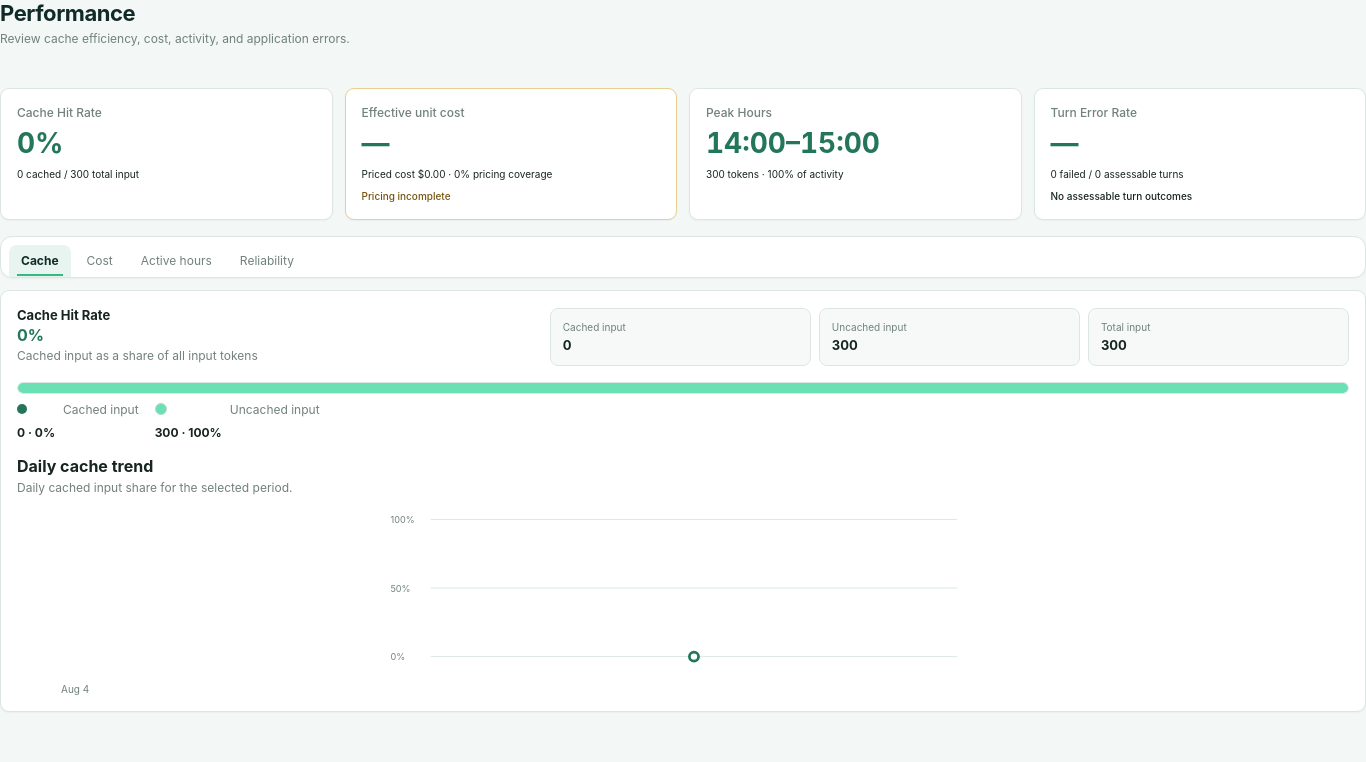
Test case: PerformanceView › switches the single detail panel by click and keyboard
Press ArrowRight in the tab "Cache", box [9,245,70,277]
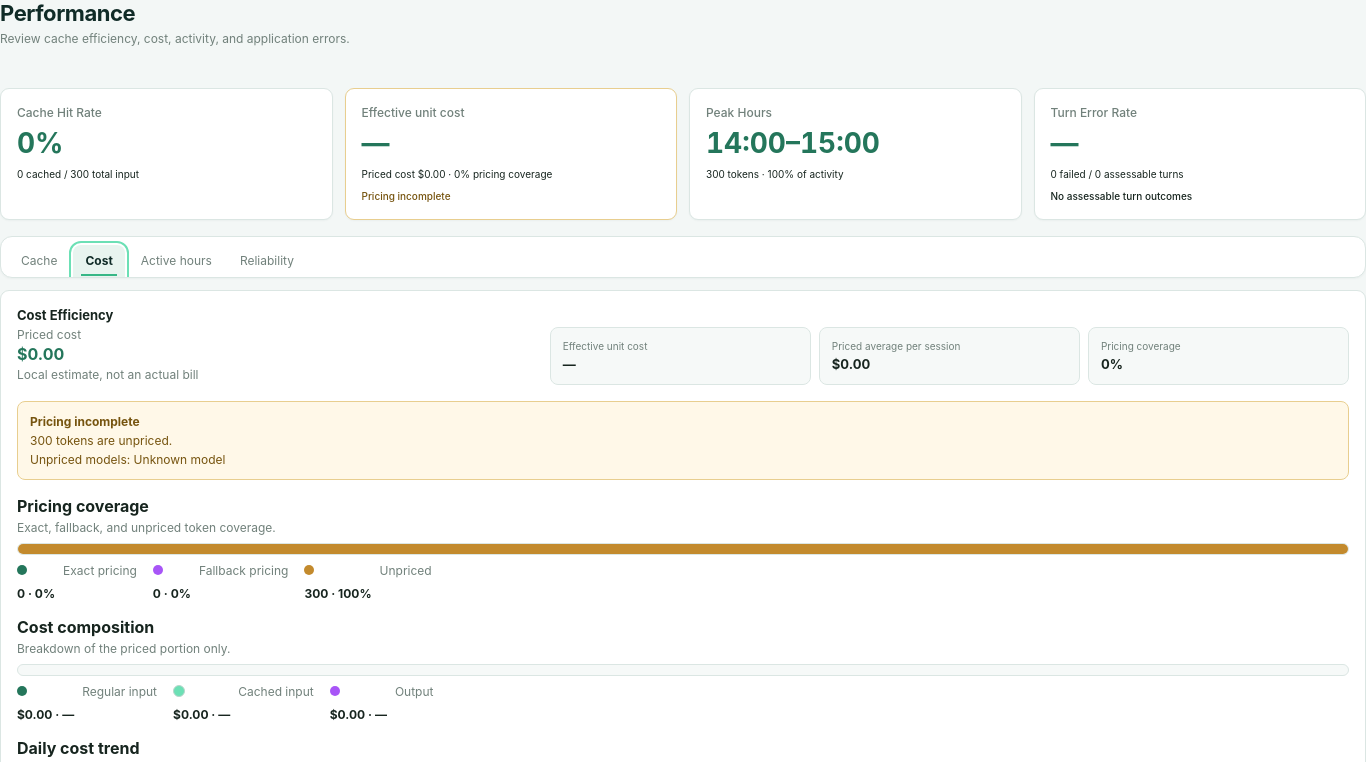
Expected: the element with test id "cost-summary" is shown, [17,307,1349,385]
Expected: the element with test id "cache-summary" is gone
Click the tab "Active hours" at (176, 261), box [129,245,224,277]
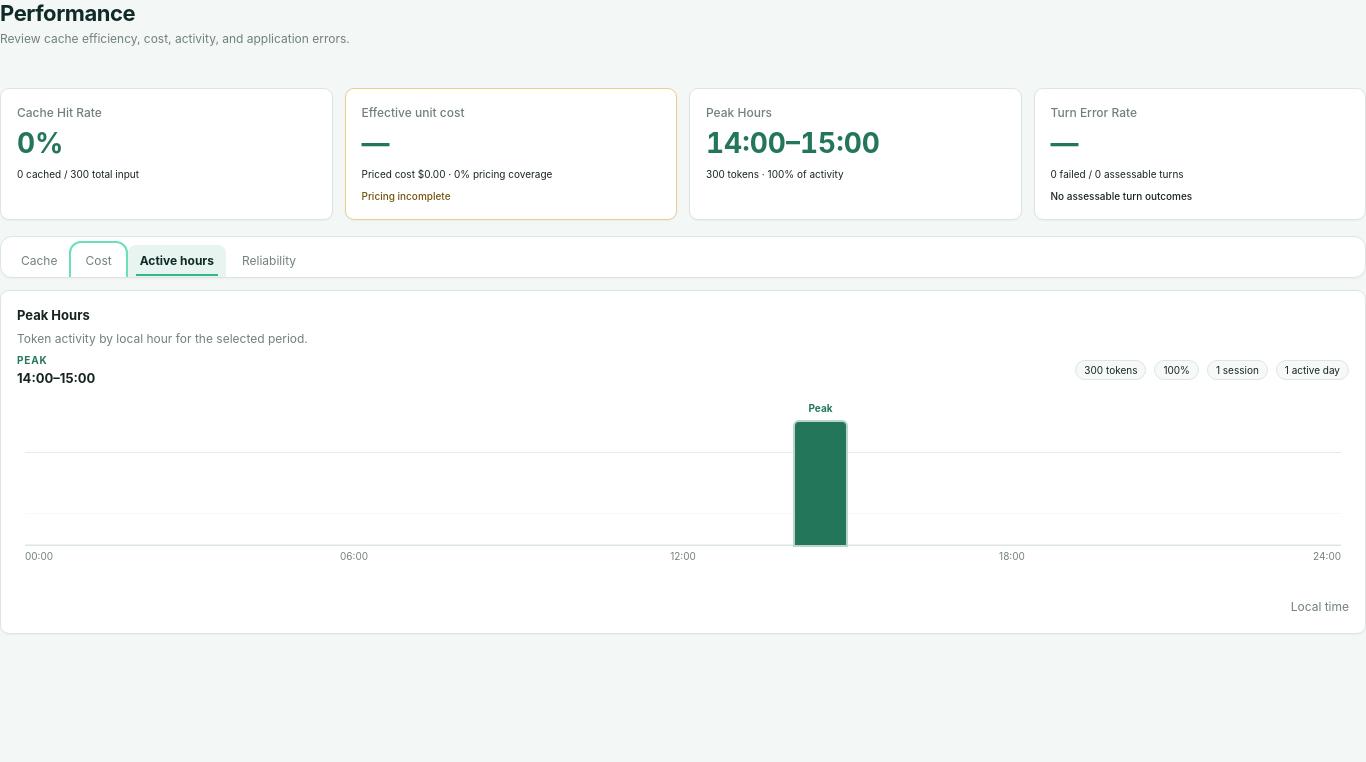
Expected: the element with test id "cost-summary" is gone
Click the tab "Reliability" at (269, 261), box [230,245,308,277]
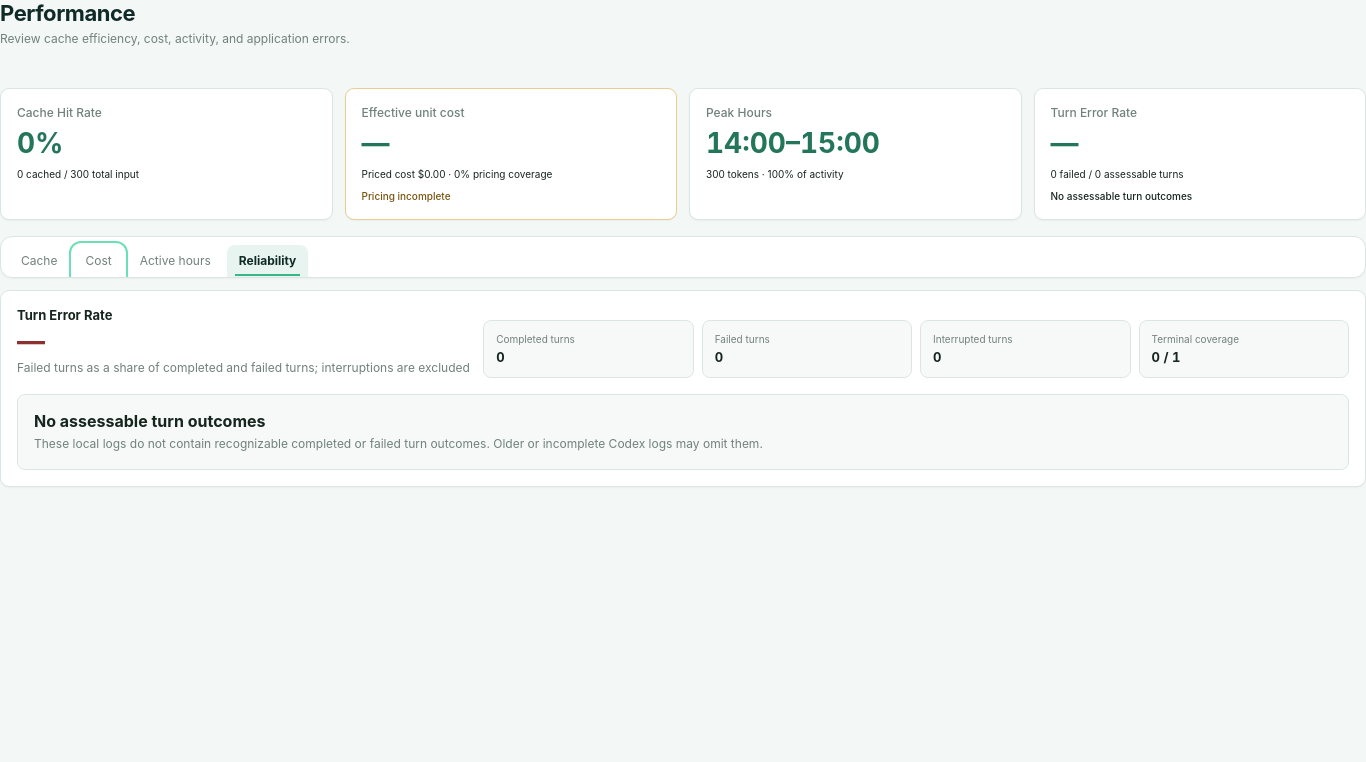
Expected: the element with test id "error-rate-summary" is shown, [17,307,1349,378]
